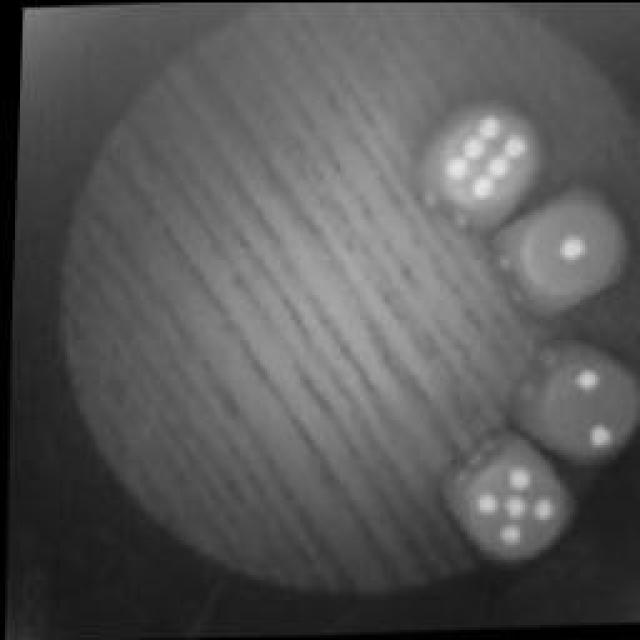dice_1: (492, 188, 626, 318)
dice_2: (517, 345, 640, 470)
dice_5: (445, 448, 580, 572)
dice_6: (414, 95, 544, 220)
